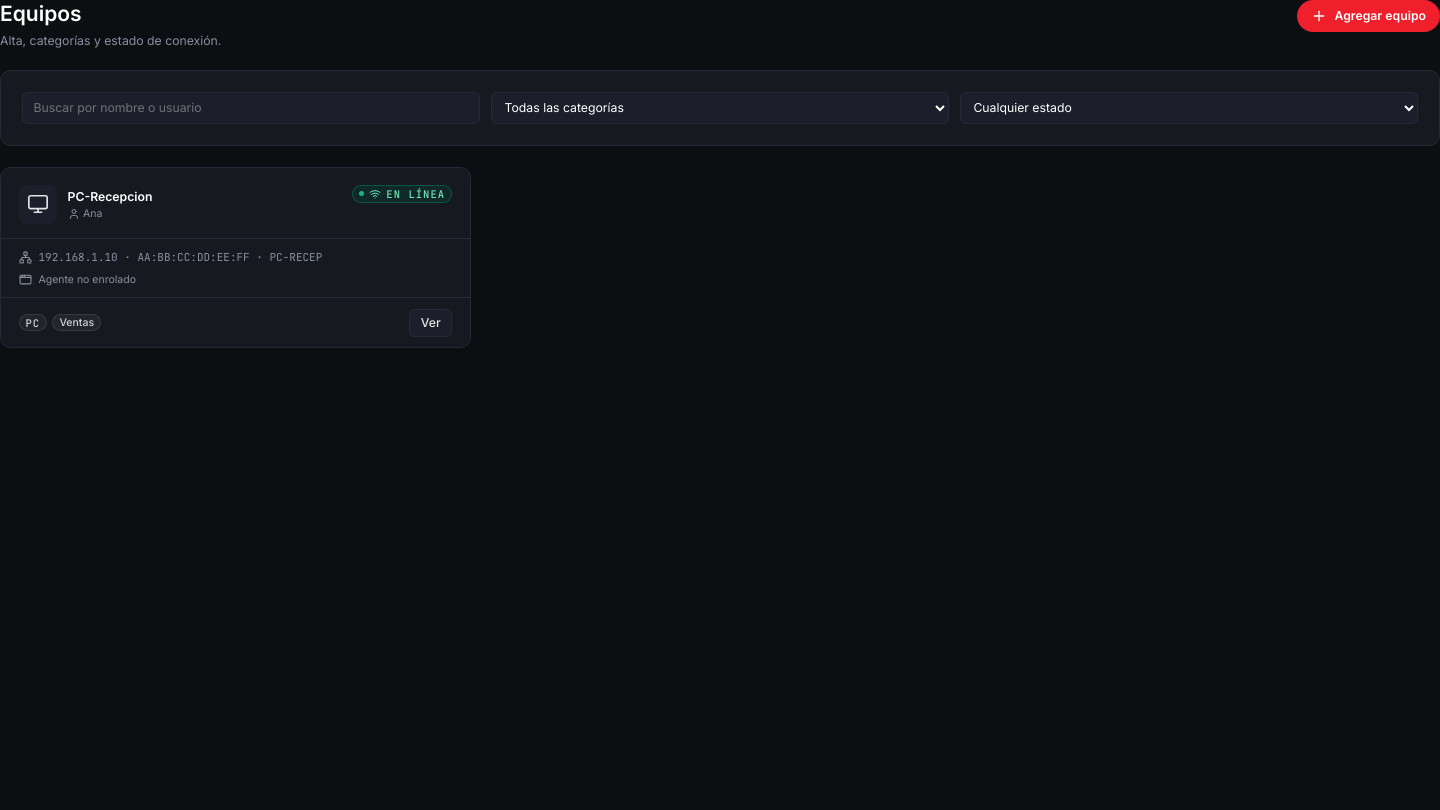
Test case: bloquea una aplicación desde la matriz de control
Later steps or results of the test are not shown.
Expected: the text "PC-Recepcion" is shown, [68,188,152,205]
Click the button "Ver" at (431, 322), box [409,308,452,336]
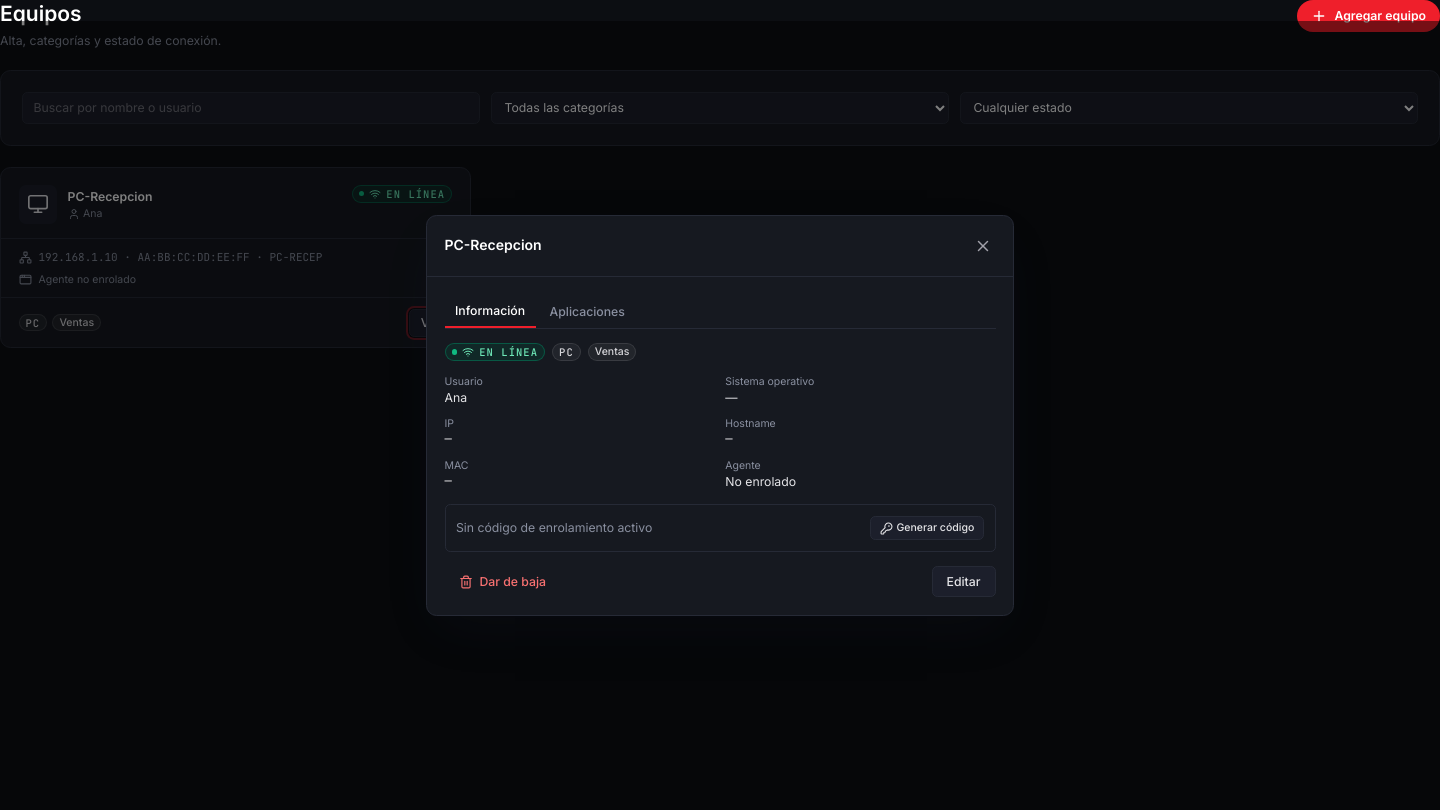
Click the button "Aplicaciones" at (587, 312), box [539,295,635,328]
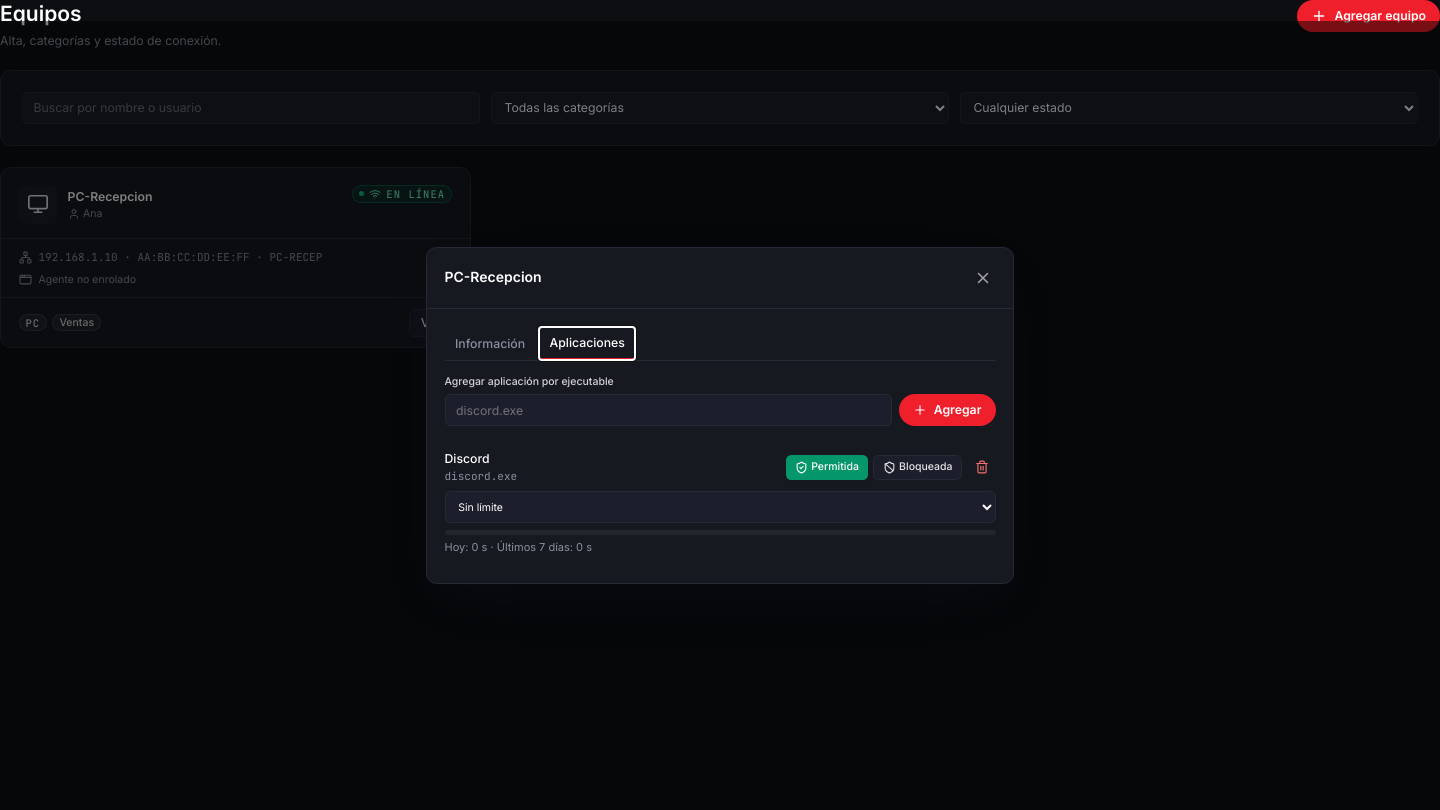
Result: the text "Discord" is shown at [444,451,490,466]
